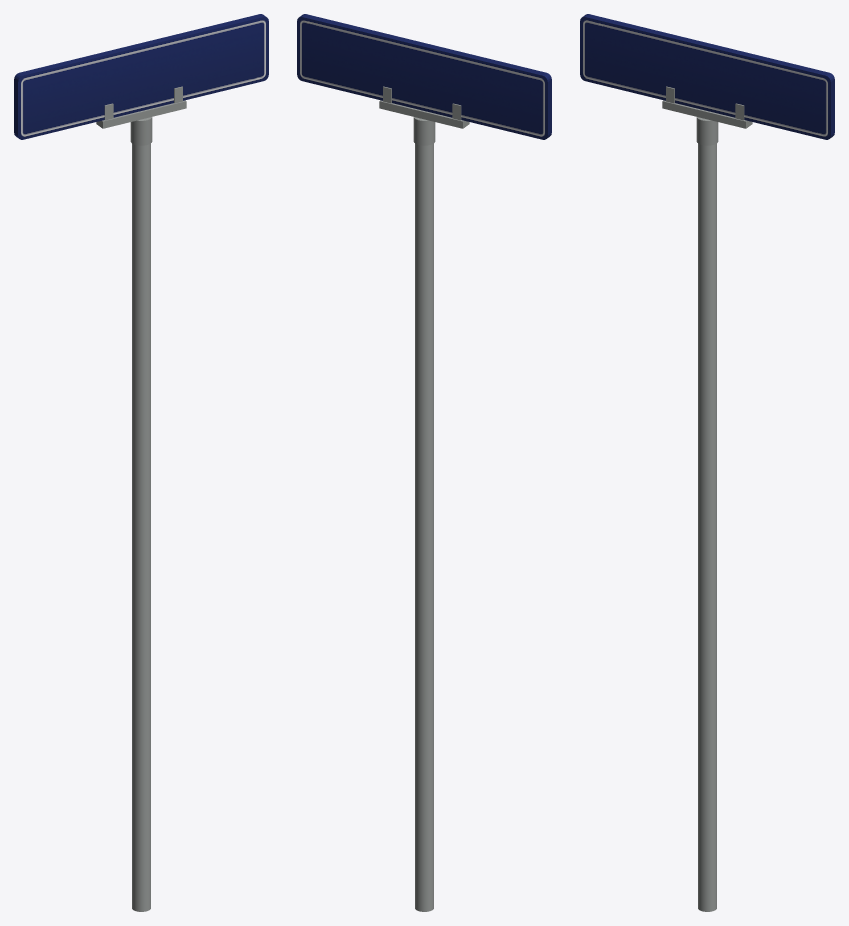
Rendered from street_name_sign.glb.
3 renders of one model, left to right at view 1: azimuth 30°, elevation 25°; view 2: azimuth 150°, elevation 25°; view 3: azimuth 330°, elevation 25°, orthographic.
Parts seen in each view (by area): view 1: street_name_sign; view 2: street_name_sign; view 3: street_name_sign.
Part boxes in pixels (left/top/right/bottom): street_name_sign: left=14, top=14, right=268, bottom=911; street_name_sign: left=297, top=14, right=551, bottom=911; street_name_sign: left=580, top=14, right=834, bottom=911.
Size of the model in its own units: 0.9 by 2.96 by 0.0684.
3 materials, 1 textured.
